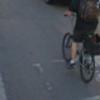bicycles: (61, 12, 100, 84)
